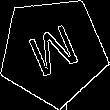M_SE: (23, 19, 84, 83)
